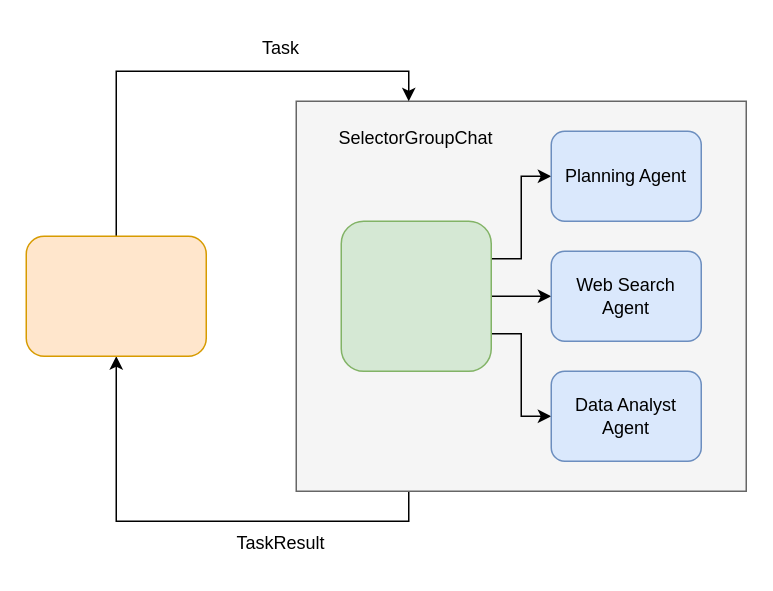
Image size: 773x591. Some labels were removed from this diagram. Here are the shapes that lost their labels. From the top down, the centre of each, then its label:
At point 115,295: "Application/User".
At point 415,295: "Selector".
